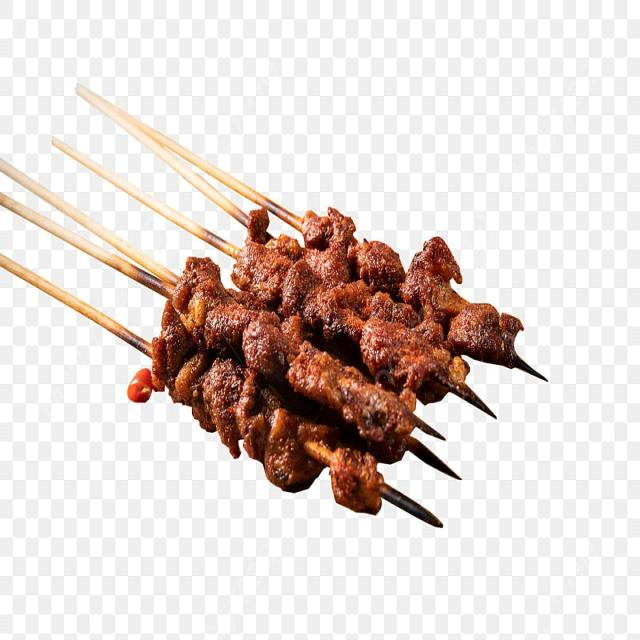Sate: (27, 70, 539, 540)
